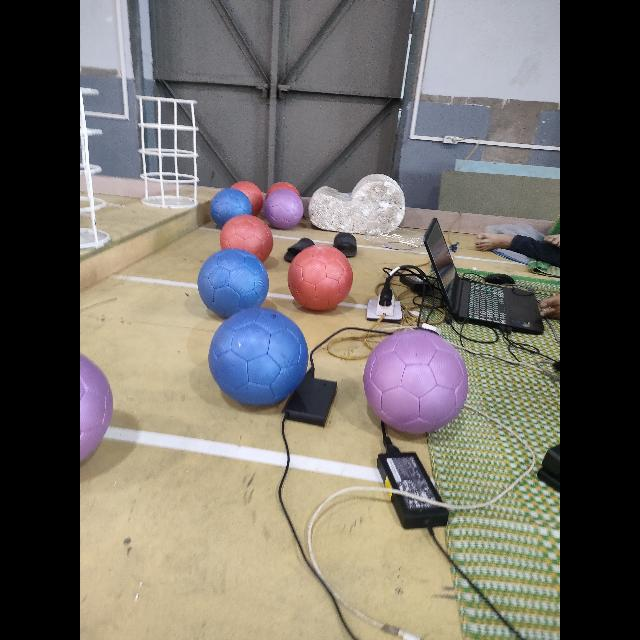B: (208, 308, 308, 404), (210, 188, 252, 228)
P: (364, 329, 468, 433), (80, 353, 112, 461), (263, 189, 303, 229)
R: (288, 246, 352, 310), (220, 214, 272, 262), (230, 182, 264, 214), (266, 182, 300, 198)
S: (138, 91, 205, 215), (80, 82, 114, 254)
